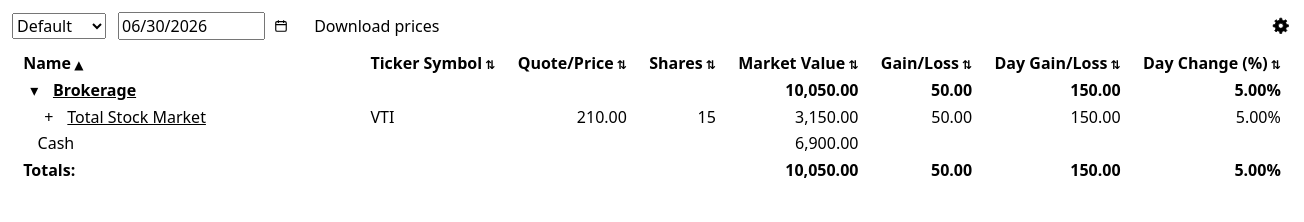
Test case: Investments view › expands an account, then an equity, to its lots
The width and height of the screenshot is (1304, 222).
Check: the button "Brokerage" is shown, box [53, 79, 136, 101]
Click the button named "Collapse Brokerage".
click(34, 90)  # box [23, 79, 46, 101]
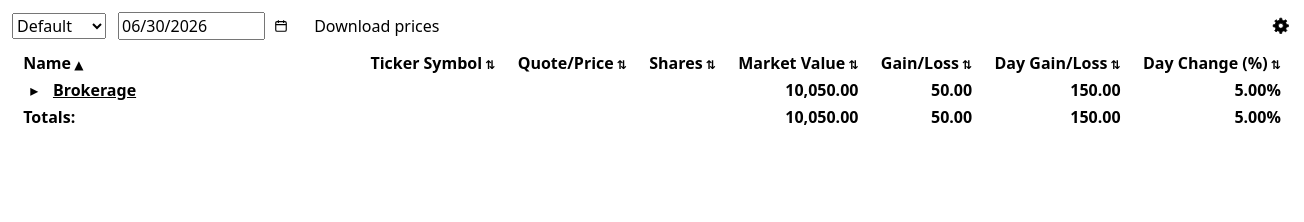
Click the button named "Expand Brokerage".
click(34, 90)  # box [23, 79, 46, 101]
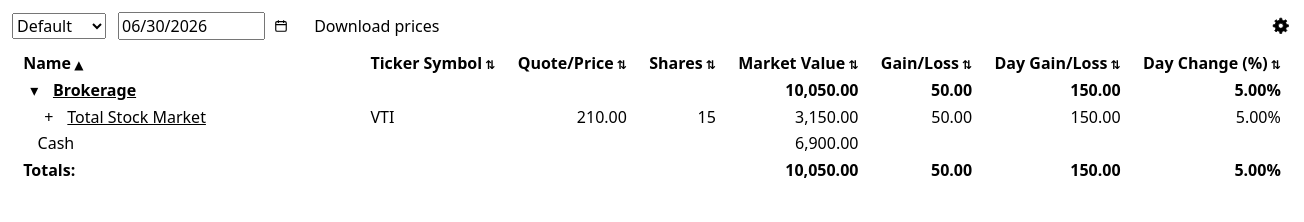
Check: the text "Cash" is shown, box [12, 130, 359, 157]
Check: the button "Total Stock Market" is shown, box [67, 106, 206, 128]
Click the button named "Expand Total Stock Market".
click(49, 116)  # box [38, 106, 60, 128]
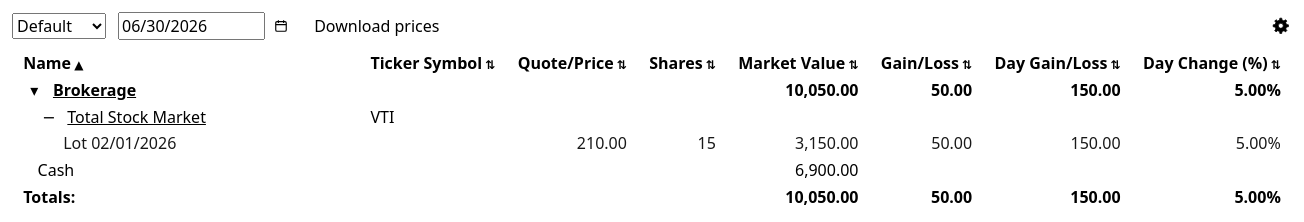
Check: the text "Lot 02/01/2026" is shown, box [12, 130, 359, 157]
Click the button named "Collapse Total Stock Market".
click(49, 116)  # box [38, 106, 60, 128]
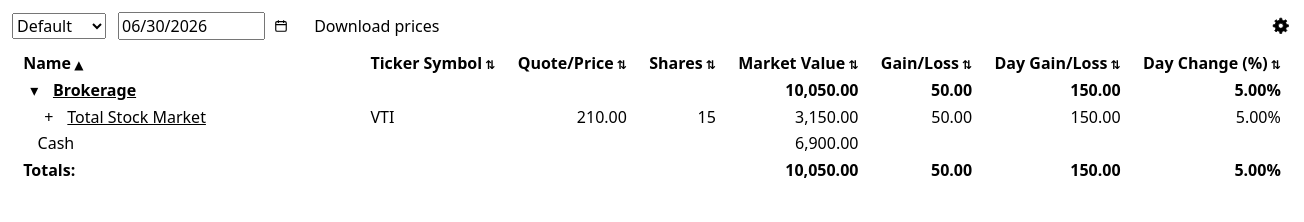
Check: the text "Lot 02/01/2026" is gone
